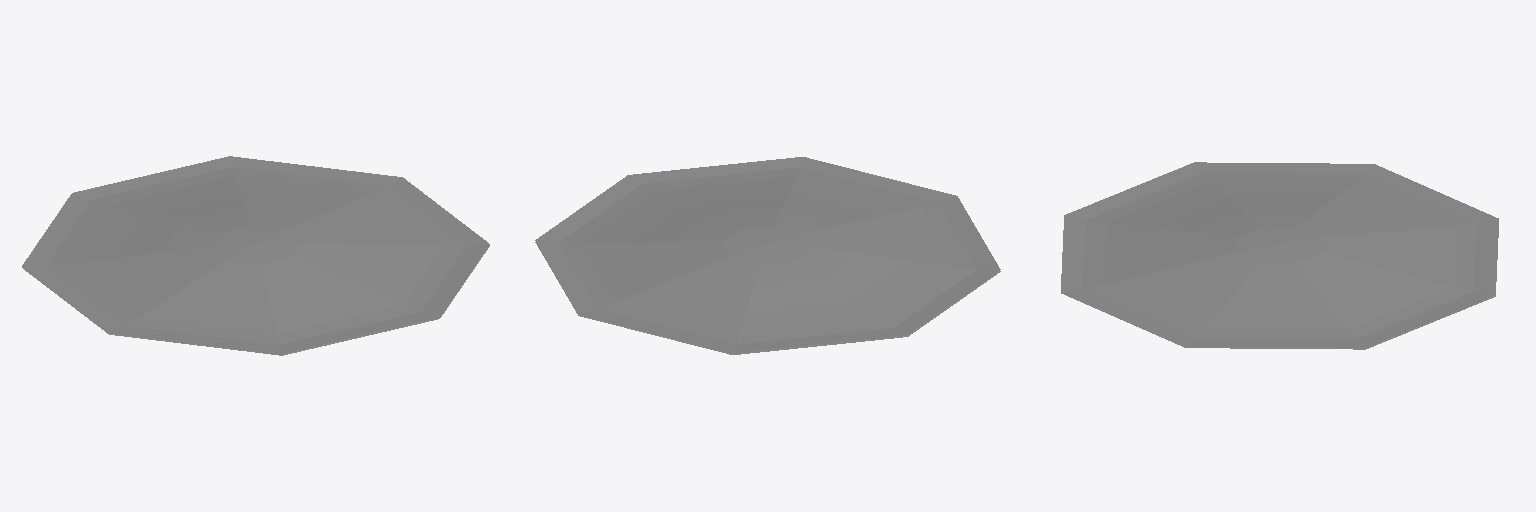
File: galaxy.obj
3 views of the same model, side by side, from view 1: azimuth 30°, elevation 25°; view 2: azimuth 150°, elevation 25°; view 3: azimuth 270°, elevation 25° (orthographic).
Parts seen in each view (by area): view 1: Galaxy_Mesh; view 2: Galaxy_Mesh; view 3: Galaxy_Mesh.
Part boxes in pixels (x1,y1,x2,y2): Galaxy_Mesh: (22,156,489,355); Galaxy_Mesh: (535,157,1000,354); Galaxy_Mesh: (1061,162,1498,349).
Bounding box in the file's own units: 1.81 × 0.1125 × 1.81.